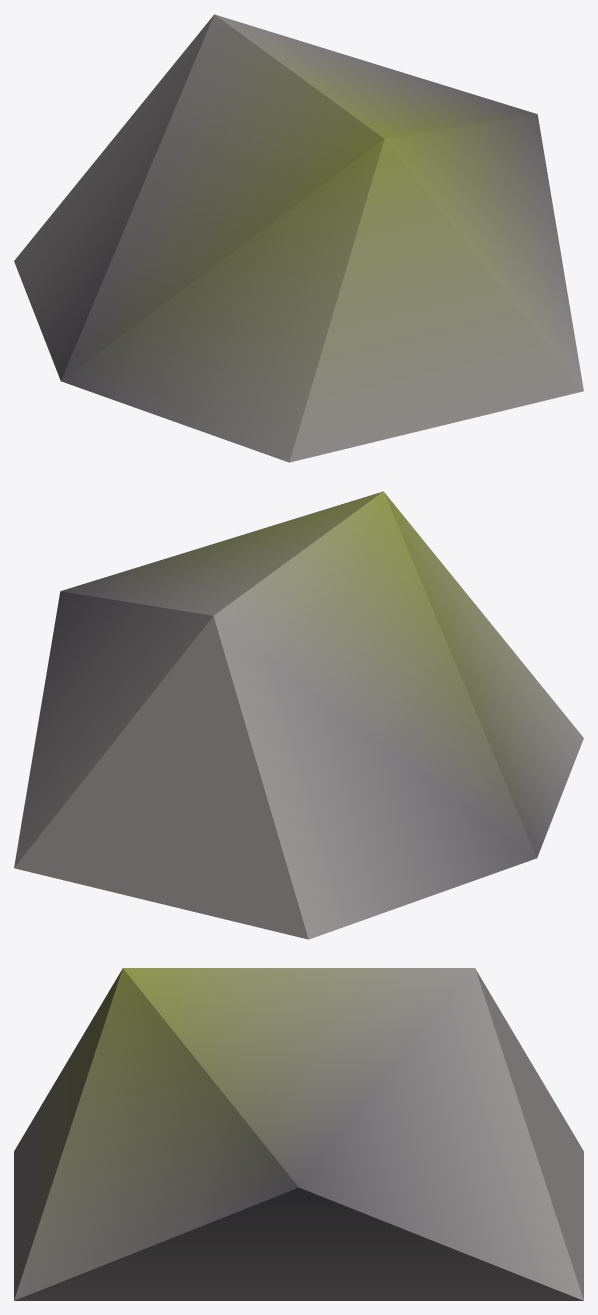
File: girth_rock.glb
The picture shows the model from 3 angles, top to bottom: view 1: azimuth 30°, elevation 25°; view 2: azimuth 150°, elevation 25°; view 3: azimuth 270°, elevation 25°; orthographic projection. The views are drawn at different scales.
Visible parts, largest first — view 1: Icosphere; view 2: Icosphere; view 3: Icosphere.
Part boxes in pixels (bbox=[...]): Icosphere: bbox=[14, 14, 583, 462]; Icosphere: bbox=[14, 491, 583, 939]; Icosphere: bbox=[14, 968, 583, 1300].
Size of the model in its own units: 1.7 by 0.8516 by 1.7.
